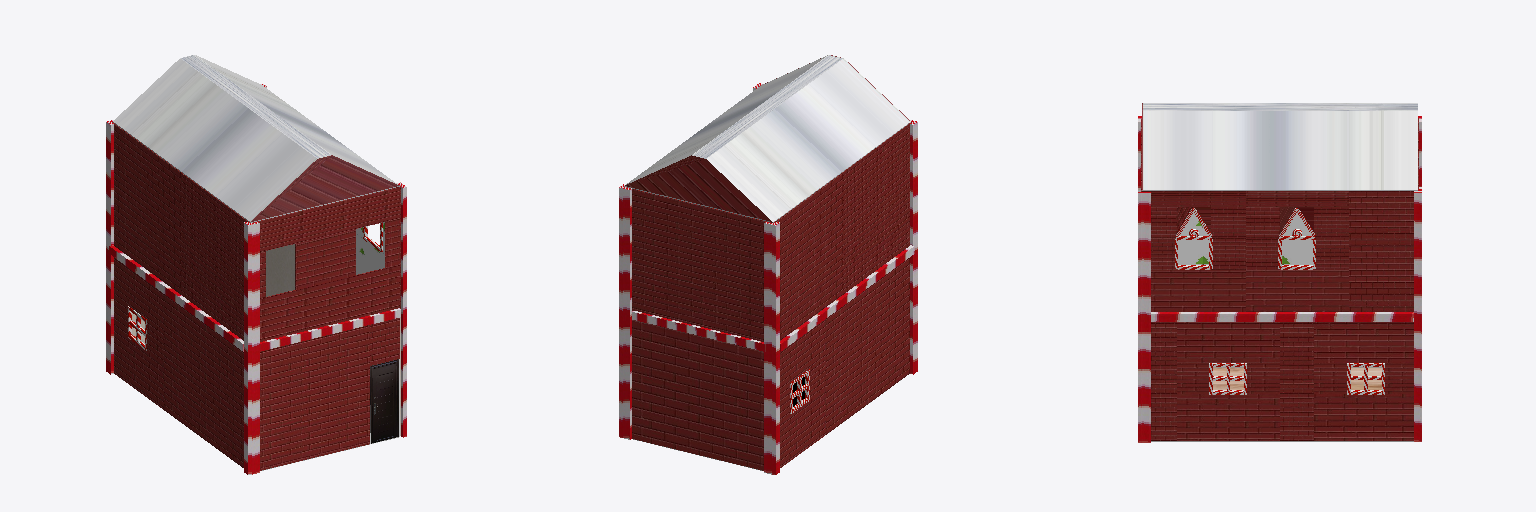
The picture shows the model from 3 angles: view 1: azimuth 30°, elevation 25°; view 2: azimuth 150°, elevation 25°; view 3: azimuth 270°, elevation 25°; orthographic projection.
Visible parts, largest first — view 1: polySurface556; view 2: polySurface556; view 3: polySurface556.
Boxes of the visible parts, <box> form: polySurface556: <box>106,55,406,474</box>; polySurface556: <box>619,55,917,474</box>; polySurface556: <box>1138,103,1421,442</box>.
Size of the model in its own units: 1070 by 1910 by 1650.
Materials: 43 (9 with a texture image).